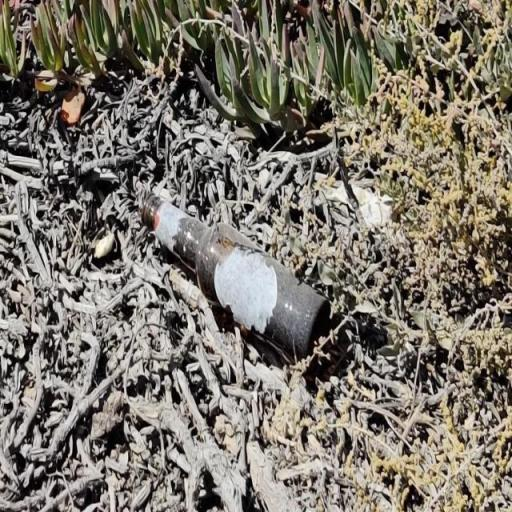glass: (134, 183, 330, 368)
